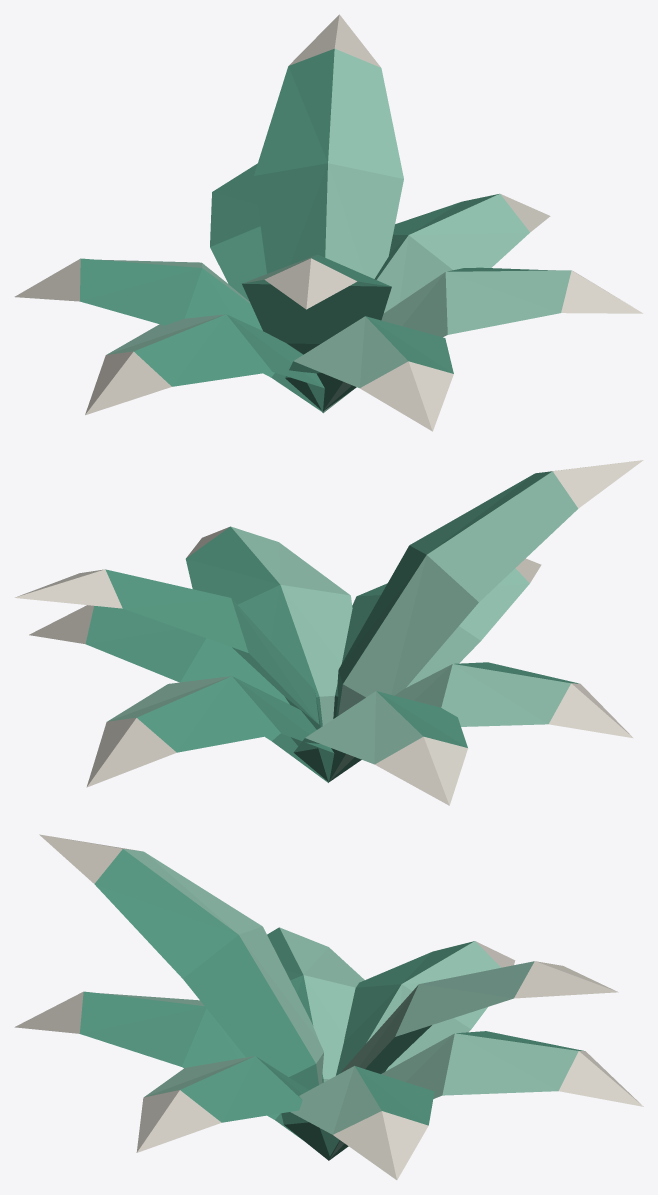
Rendered from fernmint_ripe.glb.
3 renders of one model, top to bottom at view 1: azimuth 30°, elevation 25°; view 2: azimuth 150°, elevation 25°; view 3: azimuth 270°, elevation 25°, orthographic. The views are drawn at different scales.
Parts seen in each view (by area): view 1: fernmint_ripe; view 2: fernmint_ripe; view 3: fernmint_ripe.
Boxes of the visible parts, x1=… form: fernmint_ripe: x1=14, y1=14, x2=643, y2=431; fernmint_ripe: x1=14, y1=460, x2=643, y2=805; fernmint_ripe: x1=14, y1=834, x2=643, y2=1179.
Bounding box in the file's own units: 0.4413 × 0.2064 × 0.46.
